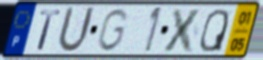1: (143, 6, 164, 56)
G: (95, 7, 130, 53)
Q: (197, 7, 230, 54)
T: (35, 8, 63, 51)
U: (55, 5, 97, 56)
X: (161, 7, 206, 54)
